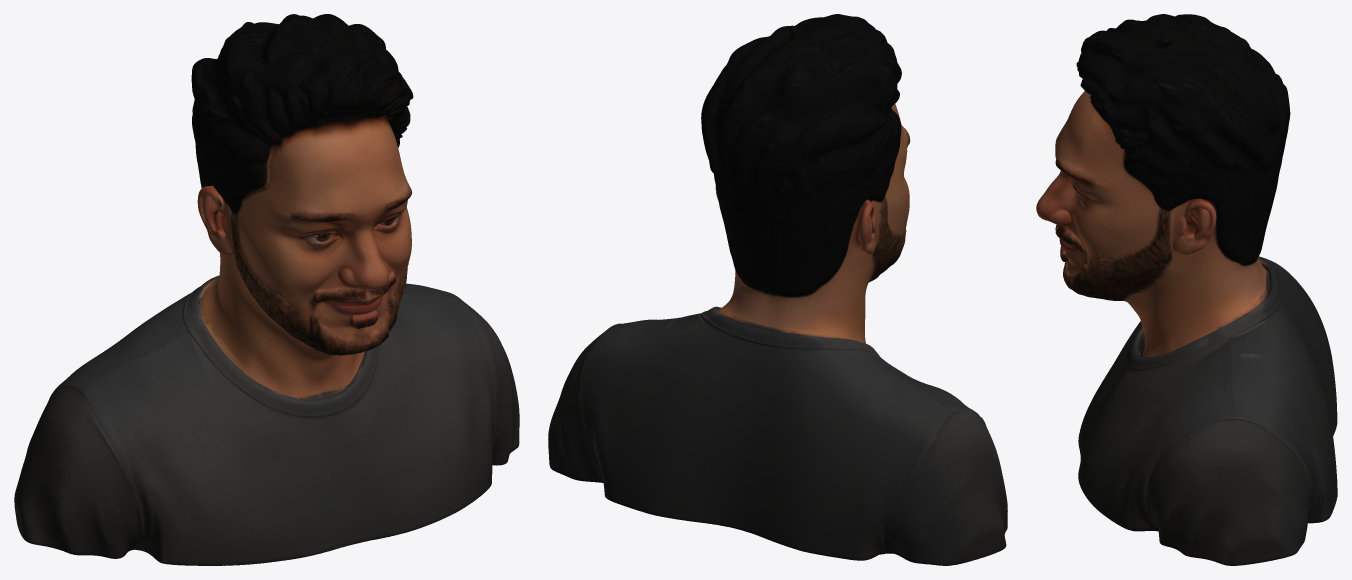
File: Portrait of a Bearded Man.glb
3 renders of one model, left to right at view 1: azimuth 30°, elevation 25°; view 2: azimuth 150°, elevation 25°; view 3: azimuth 270°, elevation 25°, orthographic. The views are drawn at different scales.
Visible parts, largest first — view 1: world; view 2: world; view 3: world.
Part boxes in pixels (x1,y1,x2,y2): world: [14, 14, 519, 565]; world: [548, 14, 1007, 565]; world: [1036, 14, 1337, 565].
Bounding box in the file's own units: 2 × 1.88 × 1.19.
Materials: 1 (1 with a texture image).
